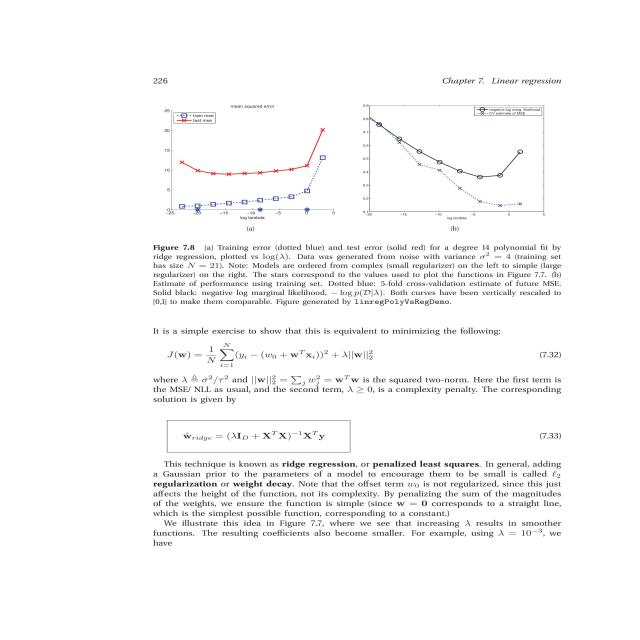diagram: (89, 88, 640, 308)
